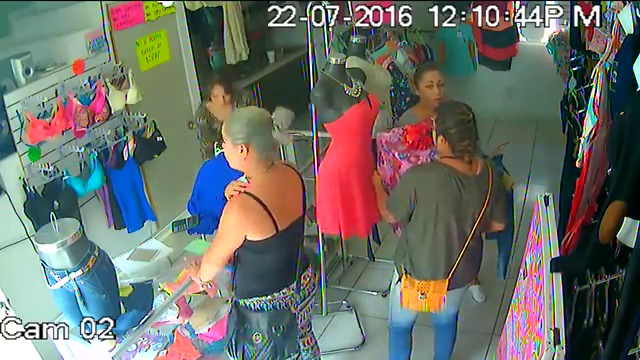face: (419, 75, 450, 105), (207, 85, 229, 108)
